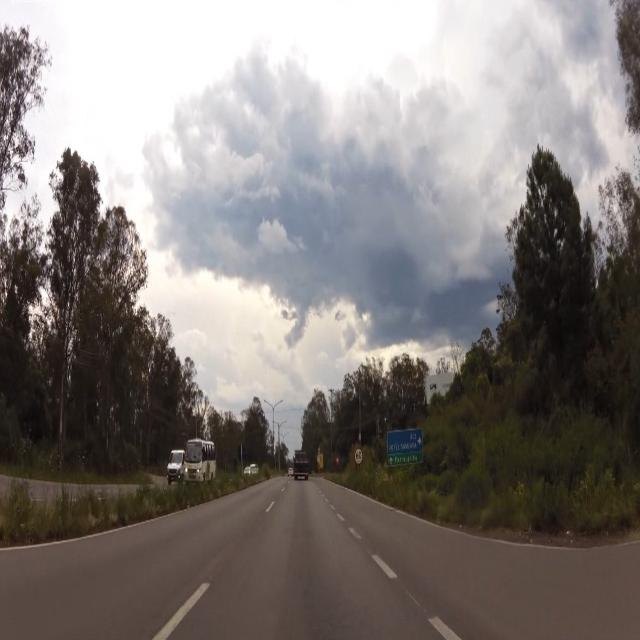LOC-6: (386, 425, 422, 455)
R-19: (355, 448, 363, 465)
